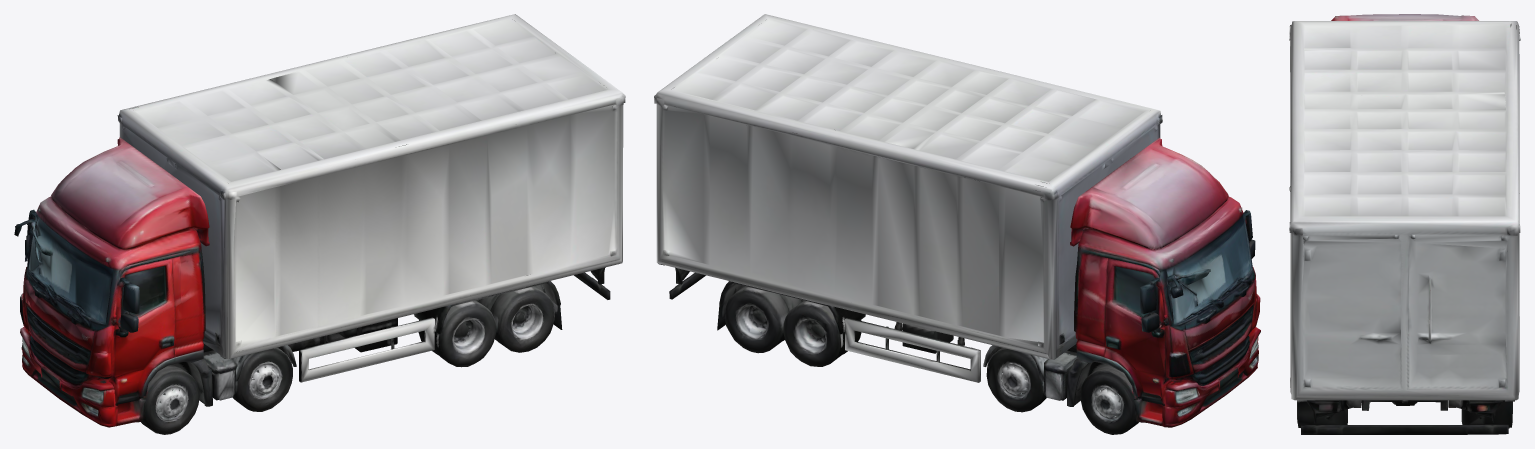
Rendered from gmt-tripo-red-white-source.glb.
3 renders of one model, left to right at view 1: azimuth 30°, elevation 25°; view 2: azimuth 150°, elevation 25°; view 3: azimuth 270°, elevation 25°, orthographic. The views are drawn at different scales.
Visible parts, largest first — view 1: tripo_node_96b82076-392d-402b-8e7b-32708d71e99a; view 2: tripo_node_96b82076-392d-402b-8e7b-32708d71e99a; view 3: tripo_node_96b82076-392d-402b-8e7b-32708d71e99a.
Boxes of the visible parts, x1,y1,x2,y2 form: tripo_node_96b82076-392d-402b-8e7b-32708d71e99a: (14,14,625,434); tripo_node_96b82076-392d-402b-8e7b-32708d71e99a: (654,14,1260,434); tripo_node_96b82076-392d-402b-8e7b-32708d71e99a: (1289,14,1520,434).
Bounding box in the file's own units: 0.9799 × 0.4397 × 0.3604.
1 material, 1 textured.
